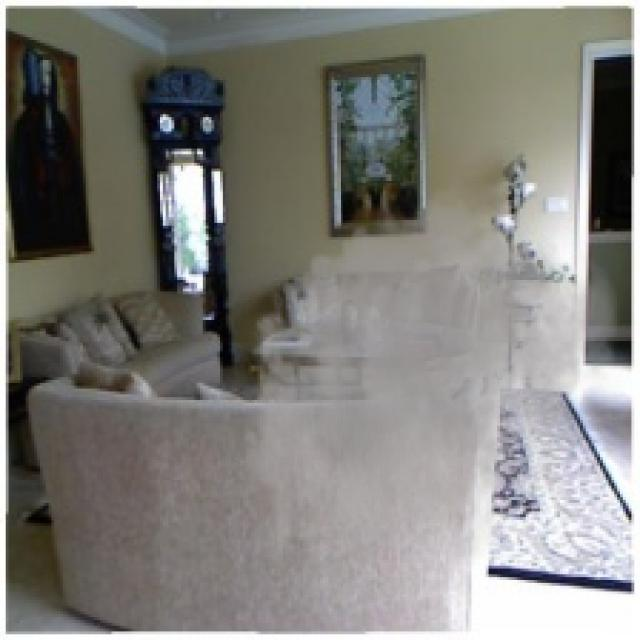Smoke: (226, 177, 632, 583)
